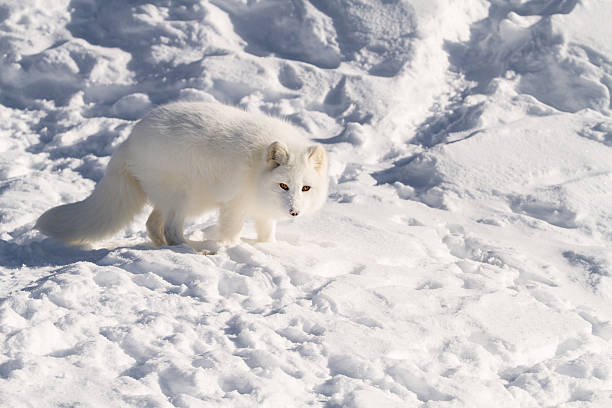arcticfox: (267, 163, 323, 220)
